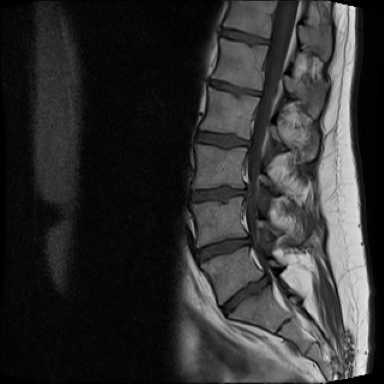Degenerative Disc Disease (DDD): (206, 75, 266, 102)
Lumbar Disc Bulge (LDB): (209, 259, 286, 320), (189, 222, 259, 266), (176, 177, 257, 210)
Normal IVD: (190, 124, 255, 156), (215, 23, 274, 48)
Spinal Stenosis (SS): (246, 259, 286, 301), (224, 174, 263, 213), (225, 223, 265, 258)
